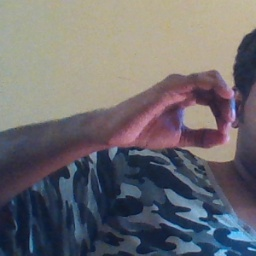O: (110, 66, 236, 158)
